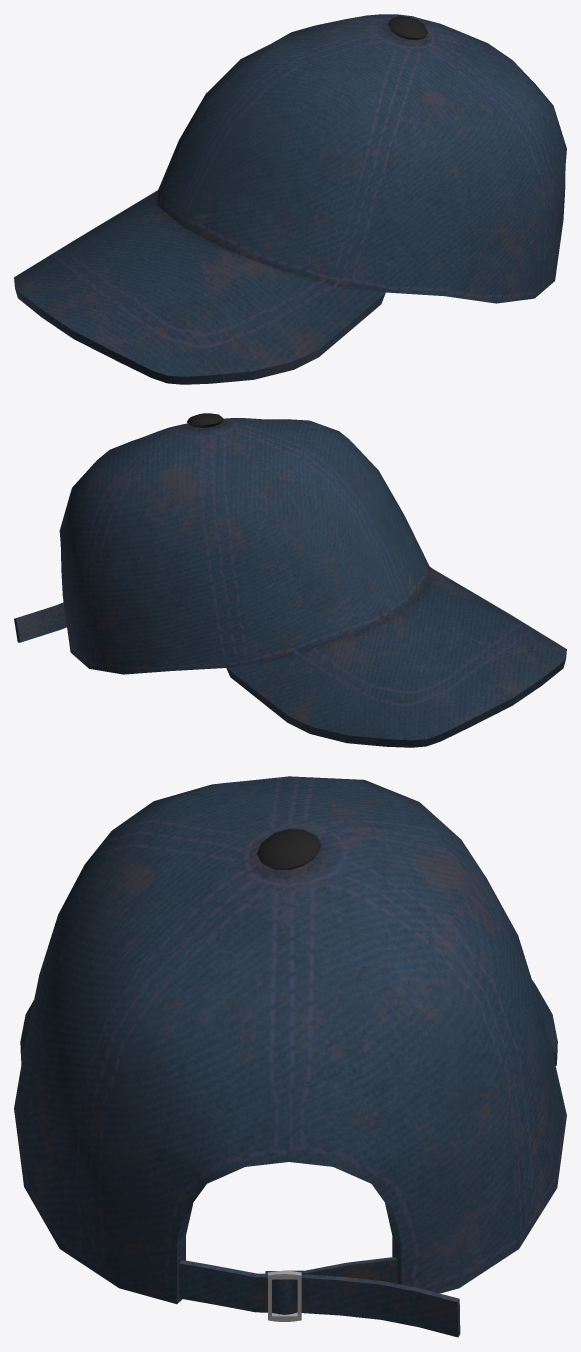
Rendered from SM_Hat.fbx.
3 views of the same model, one above another, from view 1: azimuth 30°, elevation 25°; view 2: azimuth 150°, elevation 25°; view 3: azimuth 270°, elevation 25° (orthographic). The views are drawn at different scales.
Parts seen in each view (by area): view 1: SM_Hat_LOD0; view 2: SM_Hat_LOD0; view 3: SM_Hat_LOD0.
Part boxes in pixels (box(x1,y1,x2,y2)): SM_Hat_LOD0: box(14, 14, 566, 384); SM_Hat_LOD0: box(14, 413, 566, 747); SM_Hat_LOD0: box(14, 776, 566, 1337).
Size of the model in its own units: 31.07 by 18.18 by 14.16.
